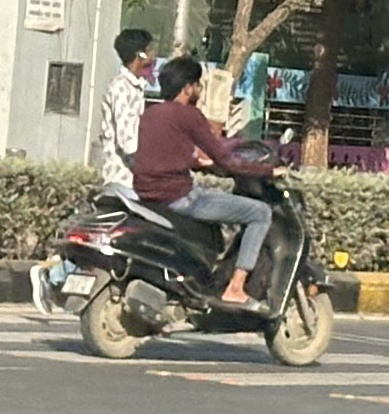BikeWithRider: (48, 47, 352, 371)
NoHelmet: (153, 51, 208, 110)
